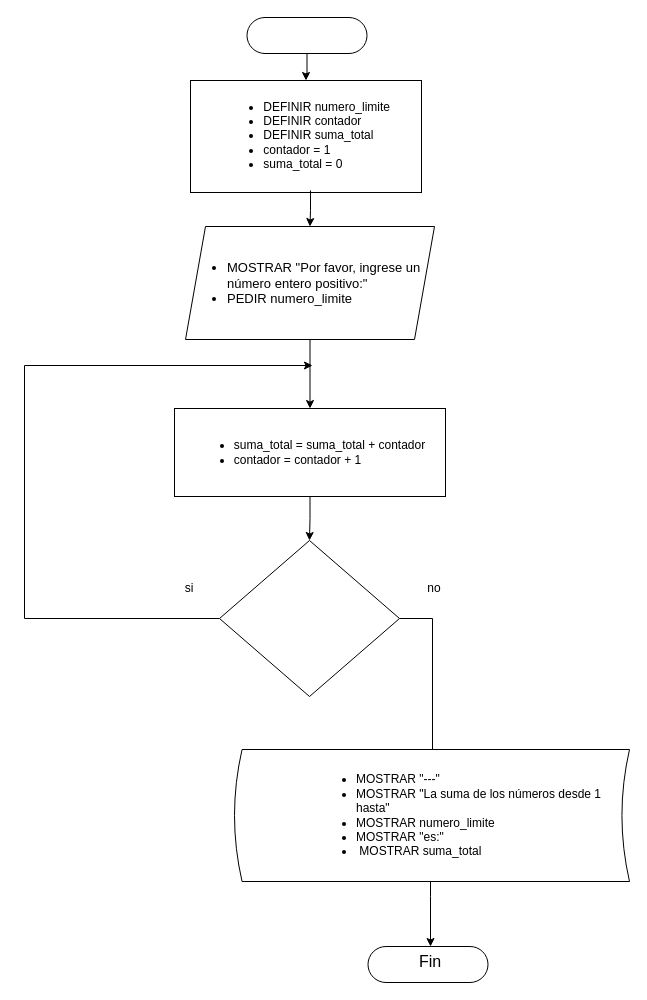
Image size: 647x1000. Some labels were removed from this diagram. The shapes that lost their labels are listed below. From the top down, each one's centre as x and y in pixels, then its label:
At (306,35): "Inicio".
At (309,618): "contador <= numero_limite".
